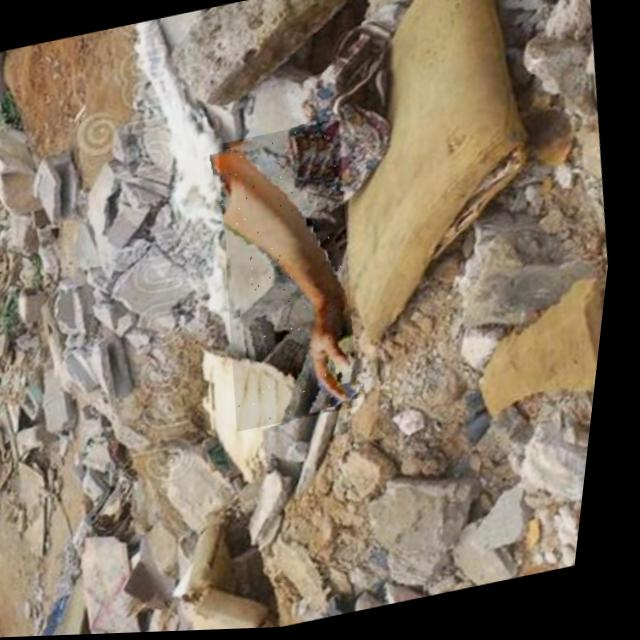Person in Rubble: (196, 119, 392, 434)
